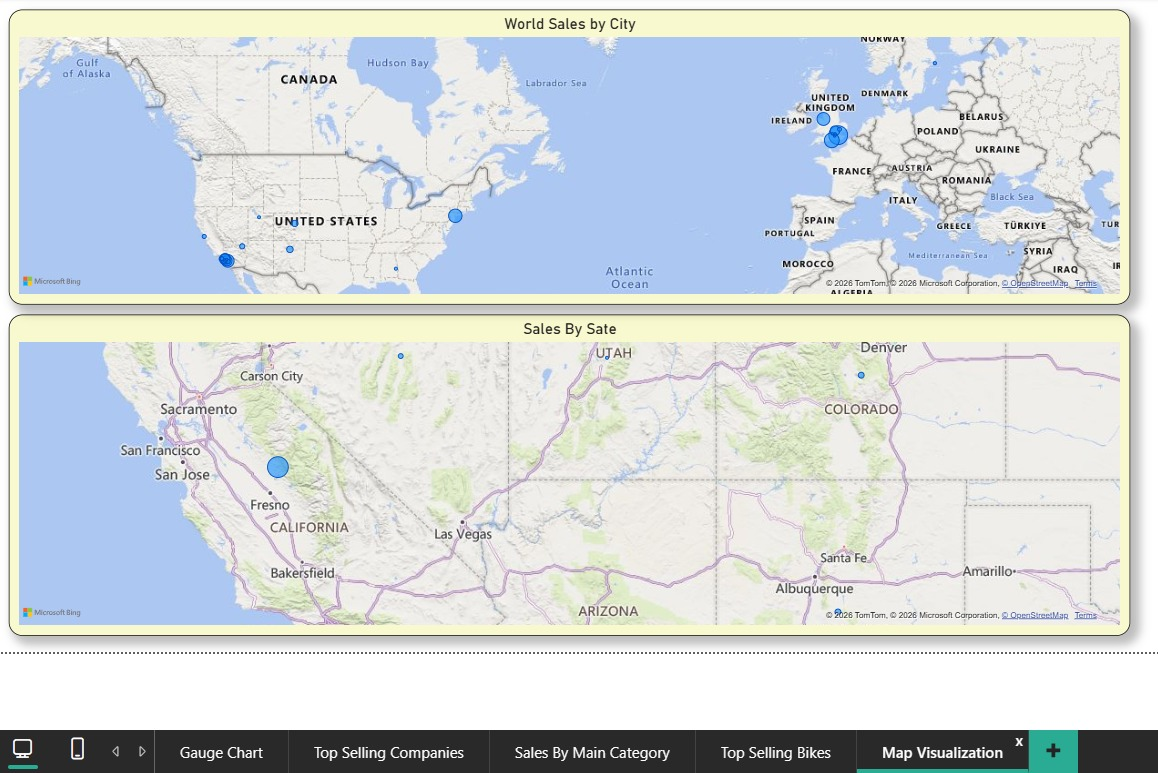

Layout of this report page (visuals, bound fields, positions):
{"tool":"powerbi","page":{"name":"Map Visualization","canvas":[1280,720],"ordinal":4},"visuals":[{"type":"map","title":"World Sales by City","fields":{"Category":["Customers.City"],"Size":["Sum(Sales.Line Total)"]},"box":[15.1,13.7,1230.9,323.8],"z":0},{"type":"map","title":"Sales By Sate","fields":{"Category":["Sales by States.StateCode"],"Size":["Sum(Sales by States.SalesYTD)"]},"box":[15.1,348.5,1230.9,352.7],"z":1}]}

Visuals, with their boxes on the page's 1280x720 design canvas (x1, y1, x2, y2). These are canvas units, not pixel positions in the 1158x773 screenshot, which may show the page scaled, cropped or inside an application window:
"World Sales by City" map: 15,14,1246,338
"Sales By Sate" map: 15,348,1246,701
